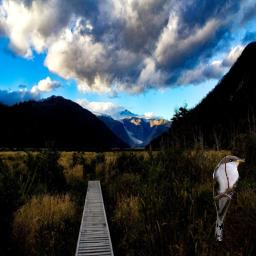Cuckoo: (212, 155, 245, 241)
